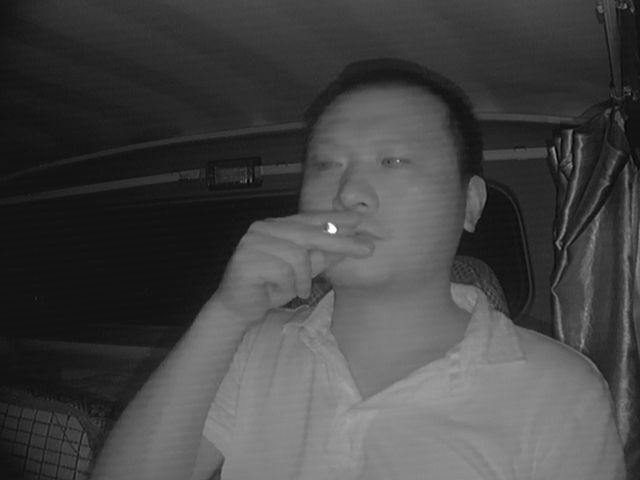hand: (246, 204, 361, 308)
